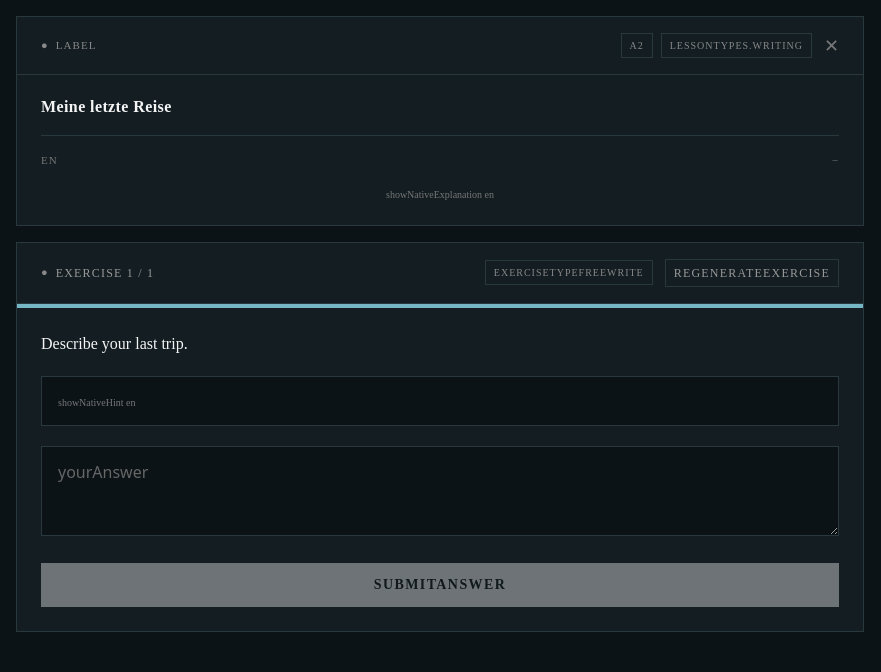
LessonPage free-write corrections › shows a partial score without corrections as red
The width and height of the screenshot is (881, 672).
Expected: the text "Describe your last trip." is shown, [41,334,188,352]
Type "Ich habe viele abenteuer gehabt. Ich bin mit auto gefahren." into the text box with placeholder "yourAnswer" at (440,490), box [41,446,839,536]
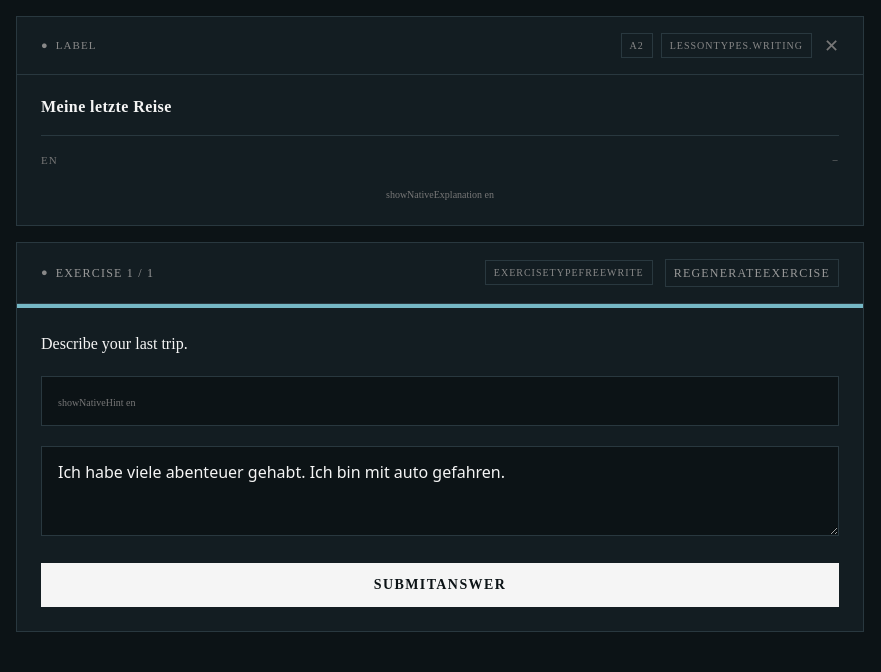
Click the button "submitAnswer" at (440,584), box [41,562,839,606]
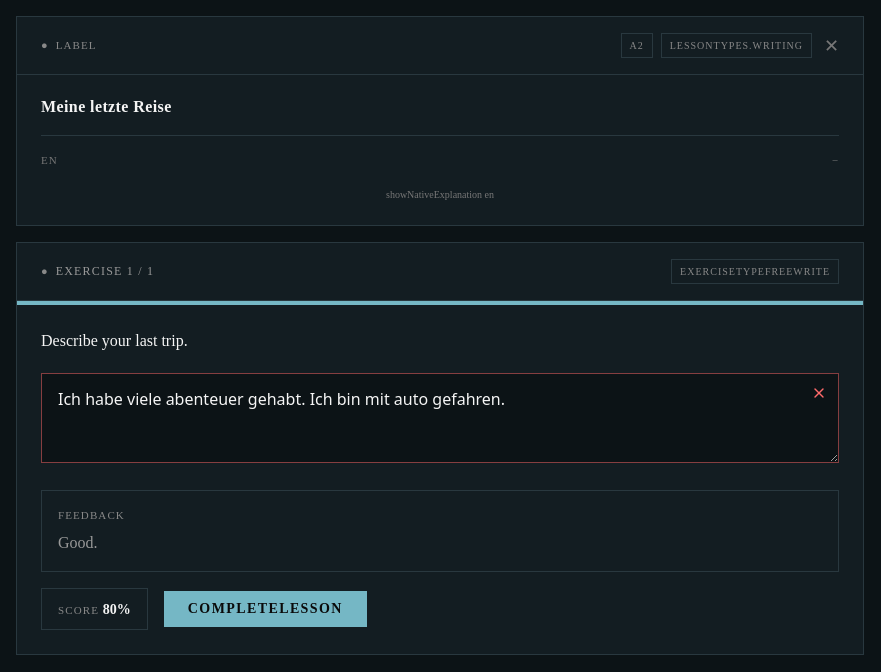
Result: the text "Good." is shown at [58,534,98,551]
